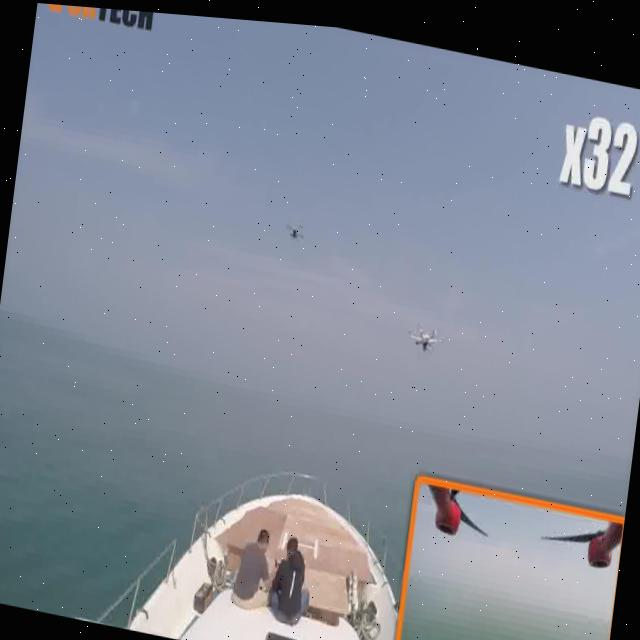drone: (0, 438, 618, 640)
